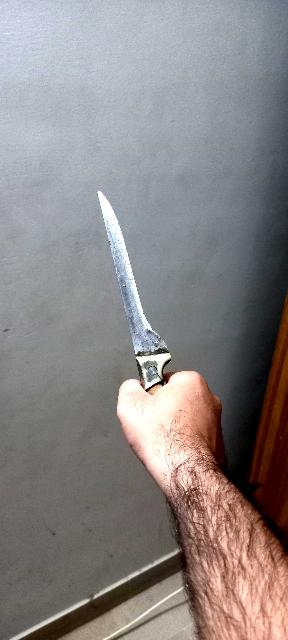long knife: (88, 183, 184, 395)
